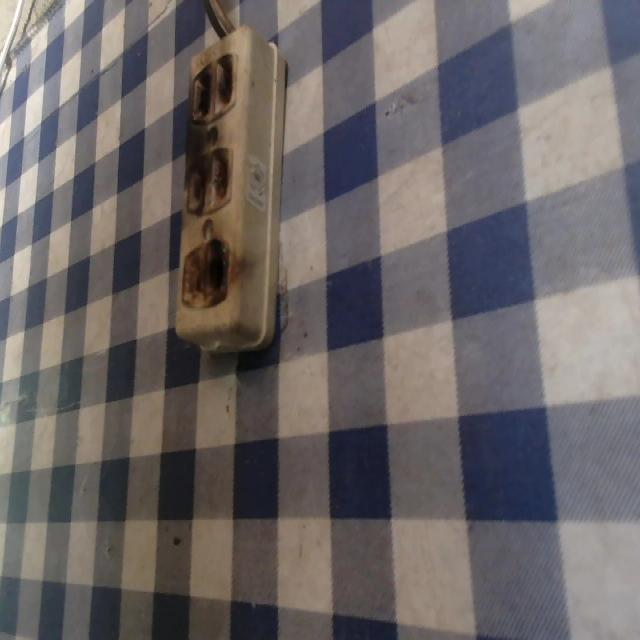-: (178, 233, 231, 307), (182, 144, 236, 216), (187, 48, 236, 124)
